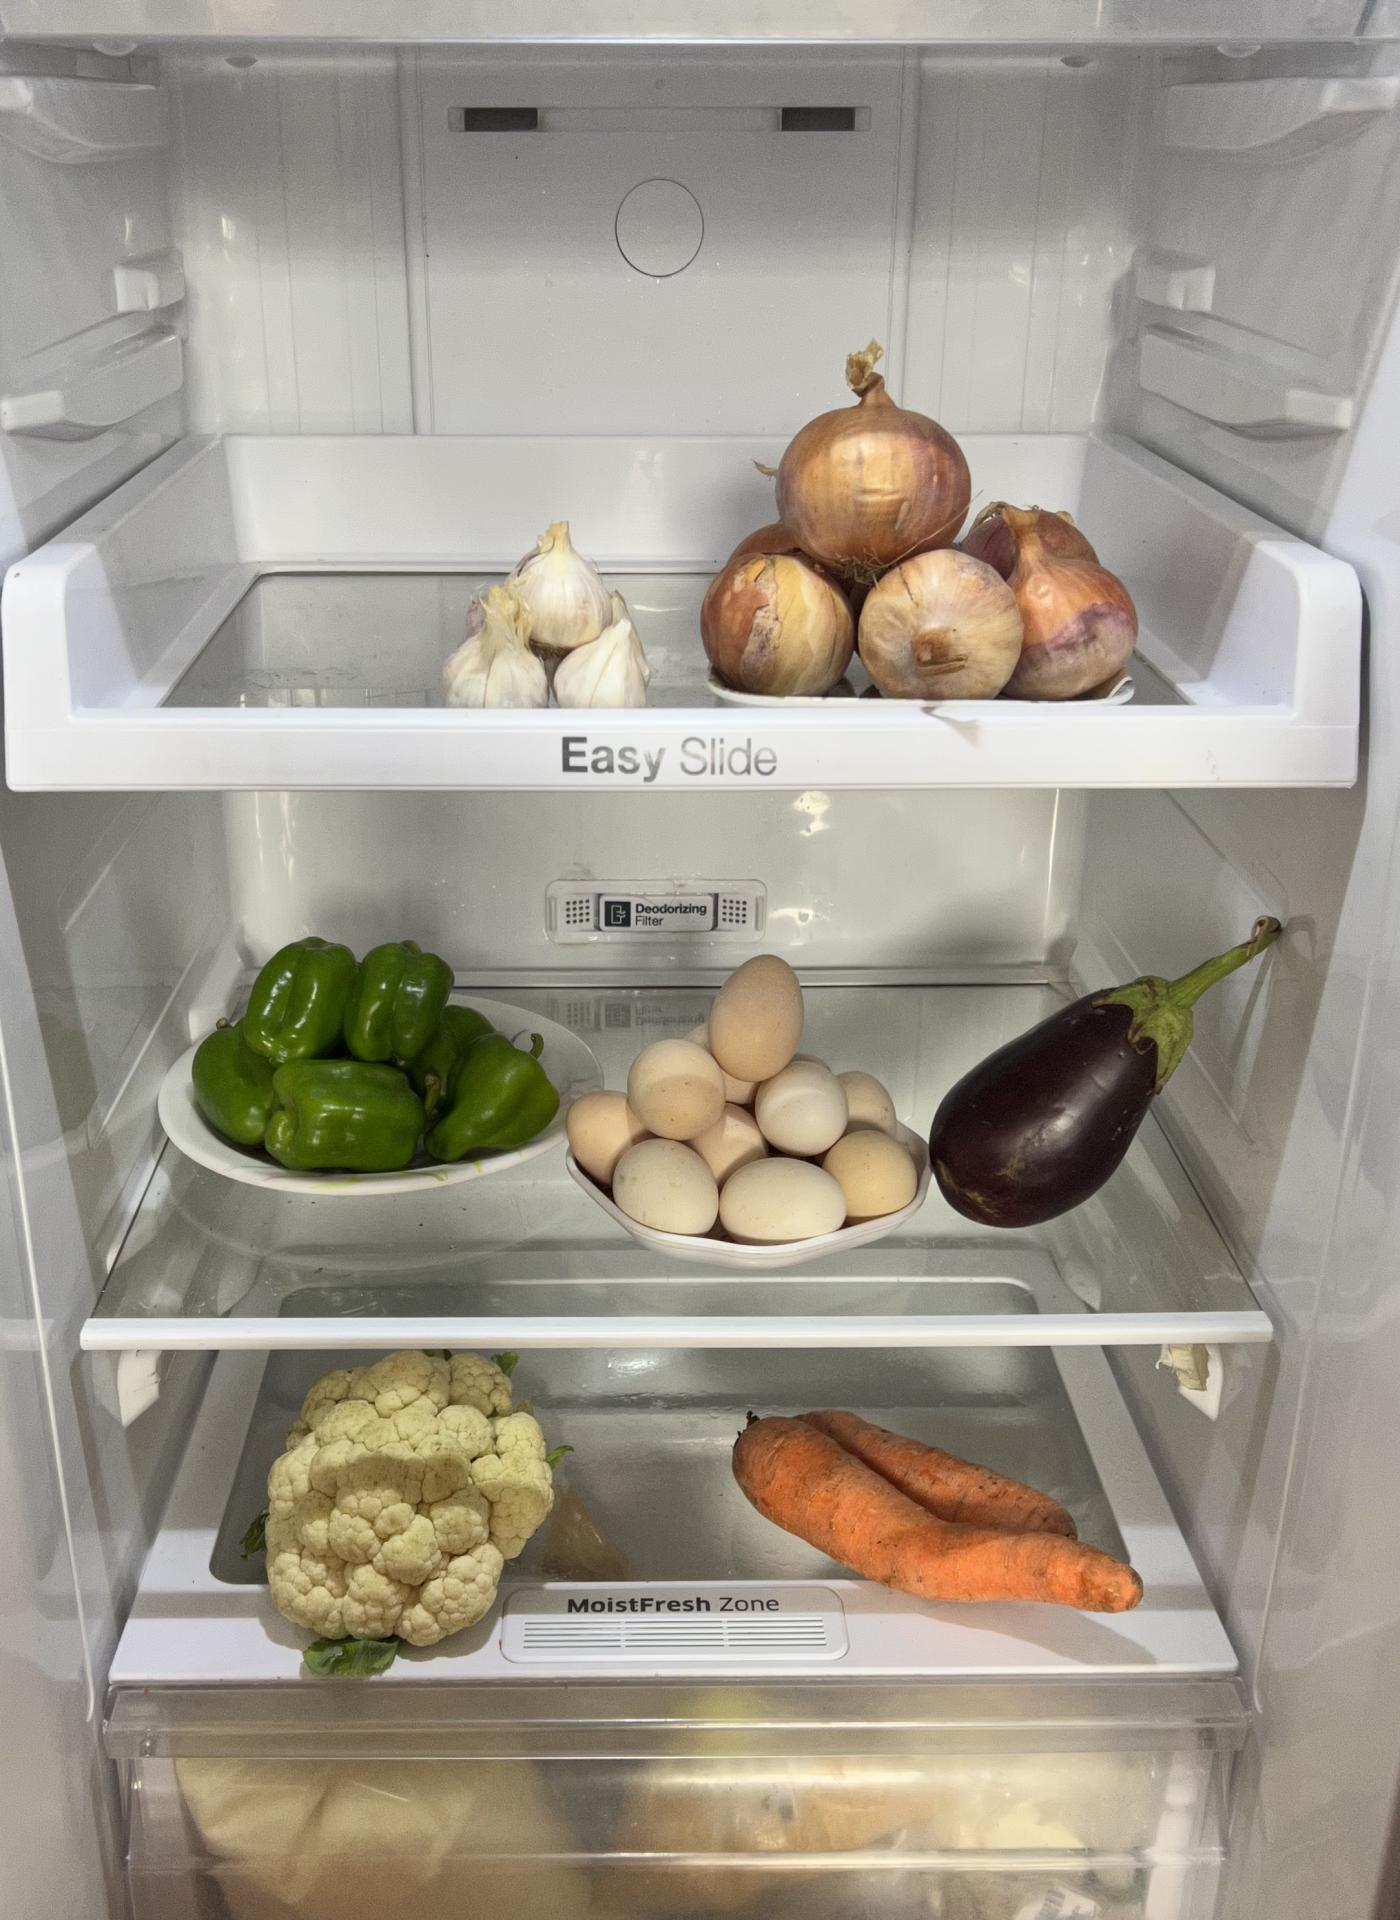capsicum: (194, 935, 552, 1172)
carrots: (719, 1380, 1138, 1620)
cauliflower: (268, 1348, 555, 1652)
egg: (567, 981, 912, 1246)
garlic: (443, 516, 653, 708)
onion: (699, 400, 1148, 705)
